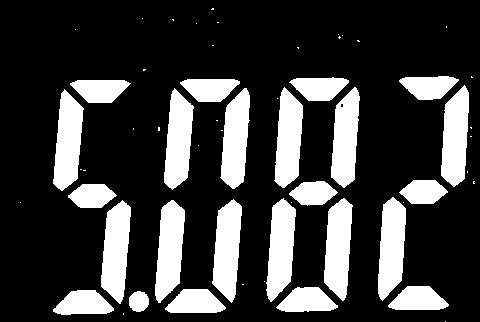0: (153, 76, 251, 315)
2: (377, 74, 471, 310)
5: (50, 77, 133, 315)
8: (262, 75, 360, 310)
dot: (128, 286, 151, 313)
